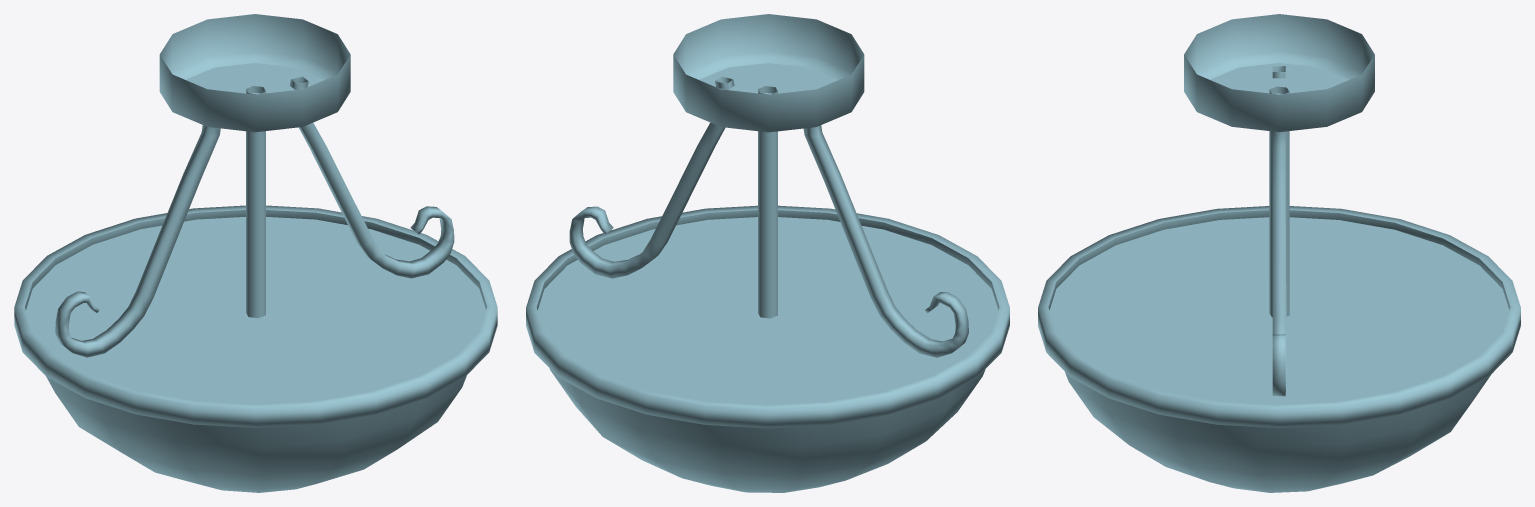
The model's file is lo_Prop_Lamp_C.fbx.
3 views of the same model, side by side, from view 1: azimuth 30°, elevation 25°; view 2: azimuth 150°, elevation 25°; view 3: azimuth 270°, elevation 25° (orthographic).
Visible parts, largest first — view 1: lo_Prop_Lamp_C_LOD0; view 2: lo_Prop_Lamp_C_LOD0; view 3: lo_Prop_Lamp_C_LOD0.
Boxes of the visible parts, x1=… form: lo_Prop_Lamp_C_LOD0: x1=14, y1=14, x2=497, y2=492; lo_Prop_Lamp_C_LOD0: x1=526, y1=14, x2=1009, y2=492; lo_Prop_Lamp_C_LOD0: x1=1038, y1=14, x2=1520, y2=492.
Size of what is drawn, in the model's own units: 1.08 by 1.02 by 1.08.
